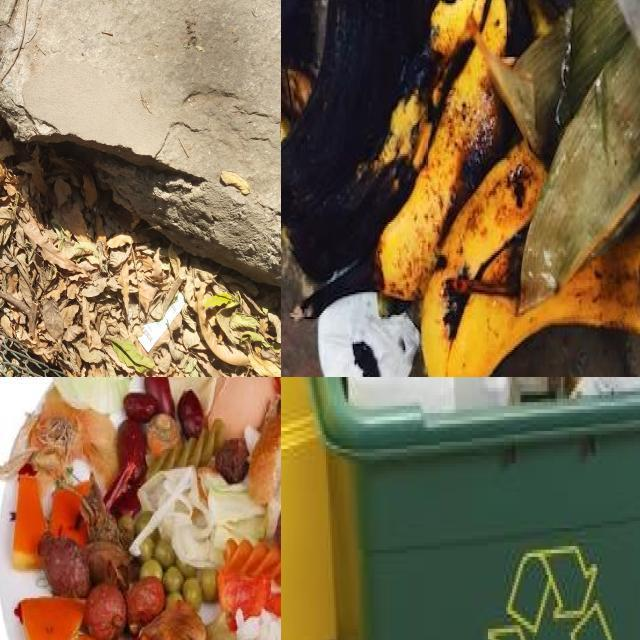Garbage: (281, 0, 640, 377), (0, 118, 281, 377), (5, 377, 281, 640)
Plastic: (348, 377, 455, 412)
